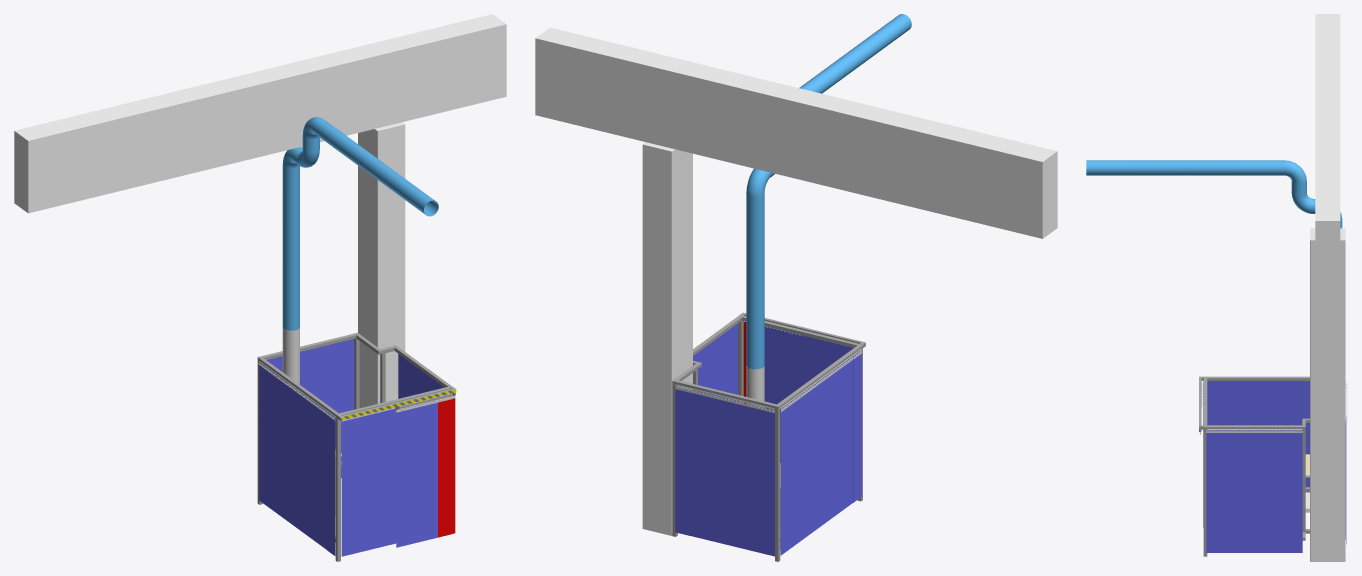
Rendered from TCC-24_Ambiente v1.fbx.
3 views of the same model, side by side, from view 1: azimuth 30°, elevation 25°; view 2: azimuth 150°, elevation 25°; view 3: azimuth 270°, elevation 25° (orthographic). The views are drawn at different scales.
Visible parts, largest first — view 1: Body35, Body58, Body95, Body66, Body64, Body65, Body67, Body72, Body78, Body71, Body74, Body75 (+9 smaller); view 2: Body35, Body95, Body58, Body89, Body92, Body88, Body90, Body91, Body94, Body93, Body69, Body76 (+10 smaller); view 3: Body35, Body95, Body80, Body86, Body81, Body82, Body84, Body83, Body85, Body74, Body73, Body75 (+9 smaller).
Boxes of the visible parts, box(x1,y1,x2,y2) form: Body35: box(14, 14, 506, 410); Body58: box(395, 392, 455, 547); Body95: box(282, 117, 438, 387); Body66: box(369, 410, 383, 549); Body64: box(341, 417, 355, 556); Body65: box(355, 414, 369, 553); Body67: box(383, 407, 396, 546); Body72: box(283, 380, 291, 523); Body78: box(327, 412, 335, 555); Body71: box(275, 374, 283, 517); Body74: box(299, 392, 307, 535); Body75: box(307, 398, 315, 540); Body35: box(535, 27, 1057, 535); Body95: box(746, 14, 911, 407); Body58: box(743, 321, 800, 462); Body89: box(745, 403, 760, 552); Body92: box(701, 392, 716, 541); Body88: box(760, 407, 774, 556); Body90: box(731, 399, 745, 549); Body91: box(716, 396, 730, 545); Body94: box(675, 386, 689, 535); Body93: box(687, 389, 701, 538); Body69: box(780, 403, 789, 555); Body76: box(840, 360, 848, 511); Body35: box(1310, 14, 1345, 561); Body95: box(1086, 160, 1342, 228); Body80: box(1206, 430, 1220, 552); Body86: box(1288, 430, 1302, 552); Body81: box(1220, 430, 1234, 552); Body82: box(1234, 430, 1248, 552); Body84: box(1263, 430, 1277, 552); Body83: box(1249, 430, 1262, 552); Body85: box(1277, 430, 1288, 552); Body74: box(1256, 381, 1270, 431); Body73: box(1271, 381, 1285, 431); Body75: box(1242, 381, 1256, 431).
Size of what is drawn, in the model's own units: 691 by 600 by 368.
